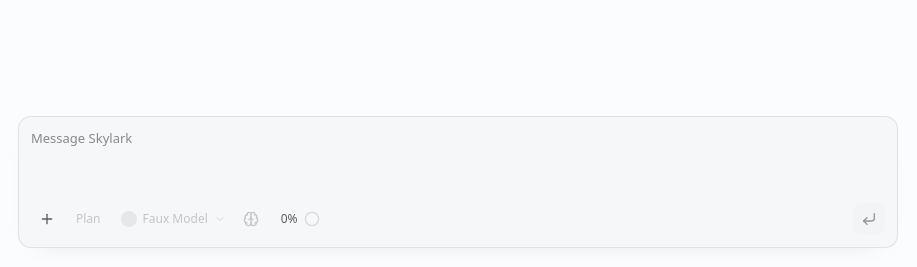
Scenario: ChatWorkbench › inserts the selected workspace file reference on Enter
The image size is (917, 267).
Type "@app" into the text box labelled "Message Skylark" at point(458, 157), box [19,117,897,197]
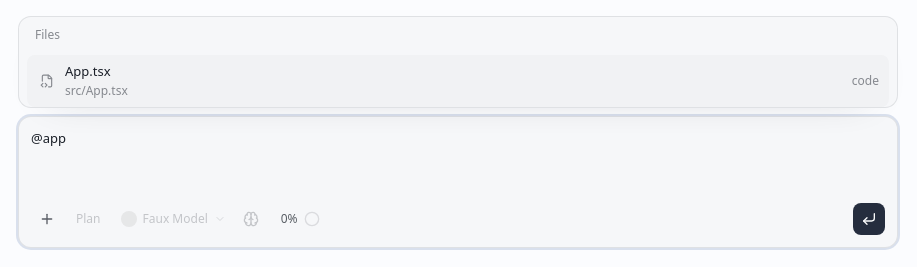
Expected: the text "App.tsx" is shown, [65,62,111,80]
Press Enter
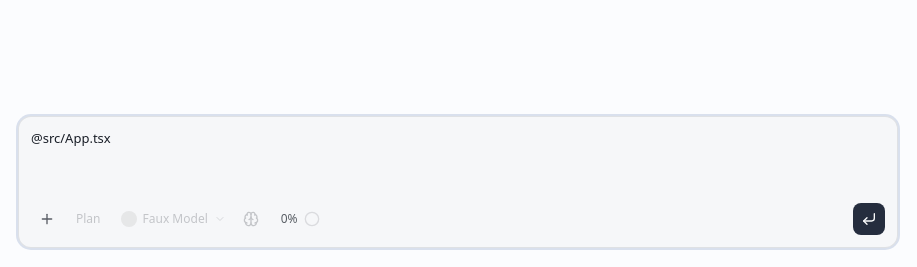
Expected: the text box named "Message Skylark" holds "@src/App.tsx", [19,117,897,197]
